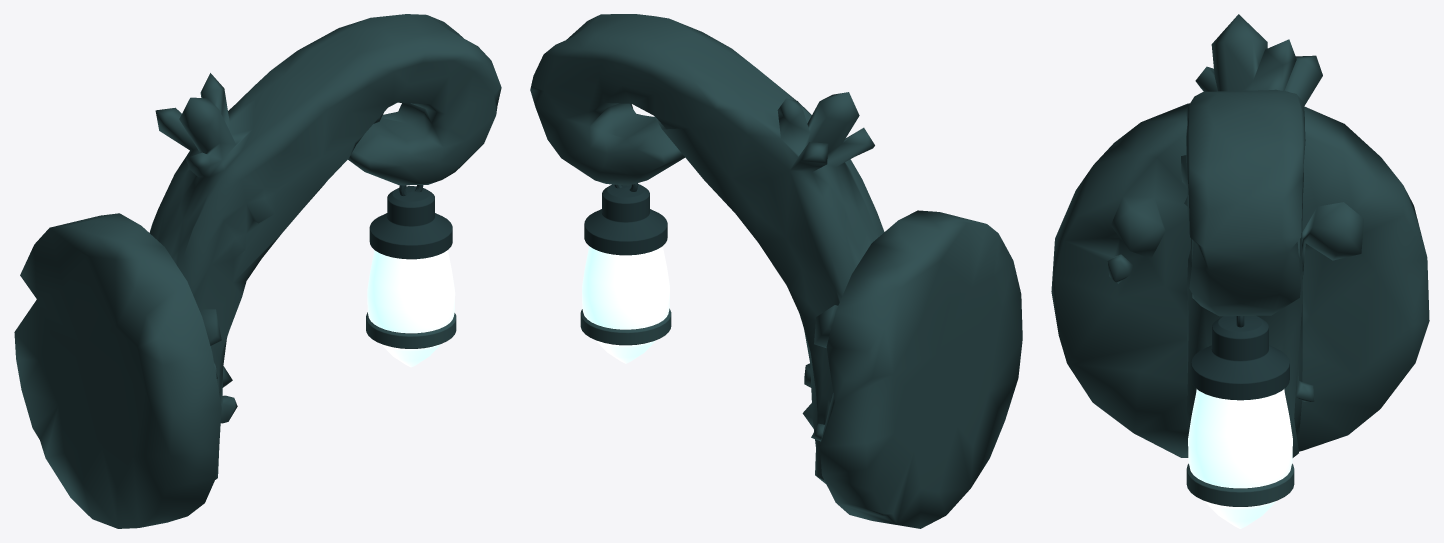
The model's file is prop_lamp_glow_wall.fbx.
The picture shows the model from 3 angles, left to right: view 1: azimuth 30°, elevation 25°; view 2: azimuth 150°, elevation 25°; view 3: azimuth 270°, elevation 25°; orthographic projection. The views are drawn at different scales.
Parts seen in each view (by area): view 1: LampWall_Bracket, Lantern_Scale; view 2: LampWall_Bracket, Lantern_Scale; view 3: LampWall_Bracket, Lantern_Scale.
Part boxes in pixels (x1,y1,x2,y2): LampWall_Bracket: [14, 14, 501, 528]; Lantern_Scale: [366, 185, 456, 367]; LampWall_Bracket: [530, 14, 1022, 528]; Lantern_Scale: [580, 183, 671, 363]; LampWall_Bracket: [1051, 14, 1429, 457]; Lantern_Scale: [1186, 315, 1294, 528].
Size of the model in its own units: 0.9904 by 0.997 by 0.6871.
